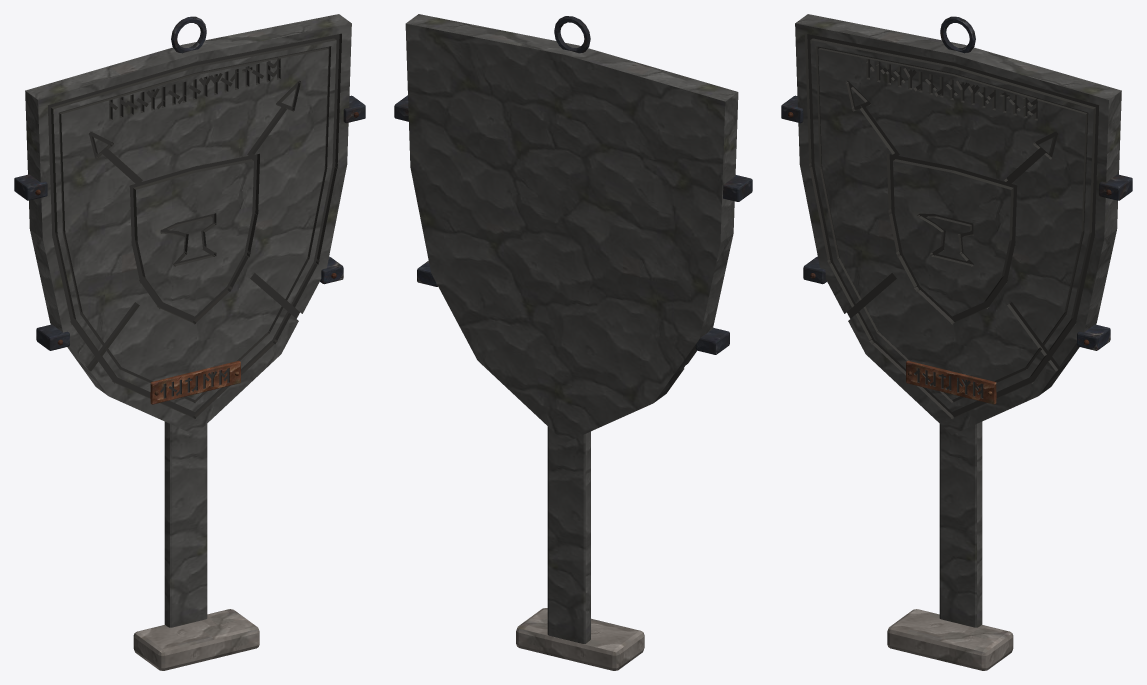
The model's file is hs_order_crest.glb.
3 views of the same model, side by side, from view 1: azimuth 30°, elevation 25°; view 2: azimuth 150°, elevation 25°; view 3: azimuth 330°, elevation 25° (orthographic).
Visible parts, largest first — view 1: model; view 2: model; view 3: model.
Boxes of the visible parts, bbox=[...] form: model: bbox=[14, 14, 365, 670]; model: bbox=[394, 14, 752, 670]; model: bbox=[781, 14, 1132, 670].
Bounding box in the file's own units: 1.14 × 2.02 × 0.17.
Materials: 6 (5 with a texture image).
